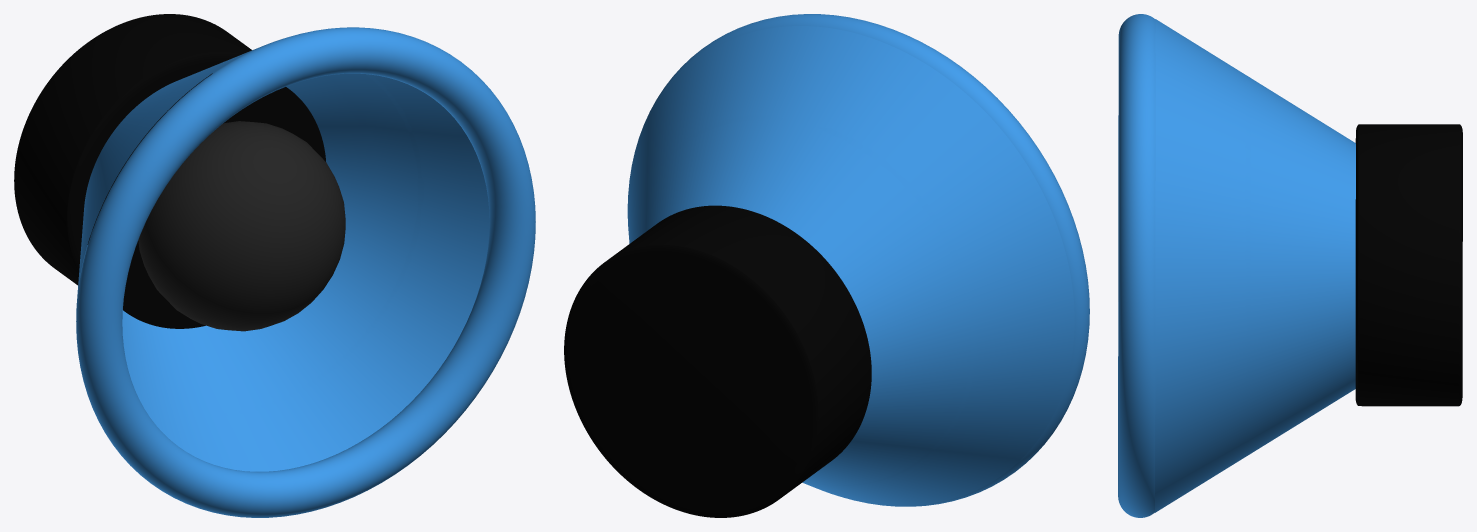
File: speeker.glb
The picture shows the model from 3 angles, left to right: view 1: azimuth 30°, elevation 25°; view 2: azimuth 150°, elevation 25°; view 3: azimuth 270°, elevation 25°; orthographic projection. The views are drawn at different scales.
Visible parts, largest first — view 1: Cylinder.004, Cylinder.001; view 2: Cylinder.004, Cylinder.001; view 3: Cylinder.004, Cylinder.001.
Boxes of the visible parts, bbox=[...] form: Cylinder.004: bbox=[76, 27, 535, 517]; Cylinder.001: bbox=[14, 14, 345, 331]; Cylinder.004: bbox=[627, 14, 1089, 506]; Cylinder.001: bbox=[564, 205, 871, 517]; Cylinder.004: bbox=[1118, 14, 1355, 517]; Cylinder.001: bbox=[1355, 124, 1462, 406].
Bounding box in the file's own units: 29.61 × 29.61 × 20.26.
